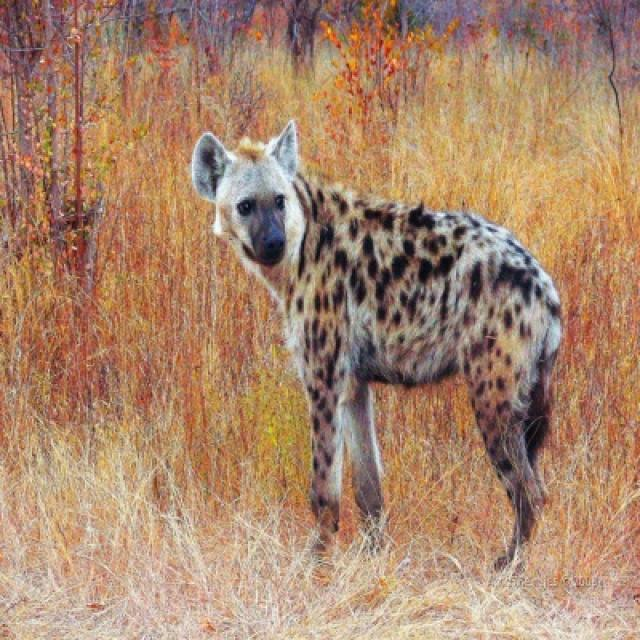hyena: (192, 120, 560, 565)
